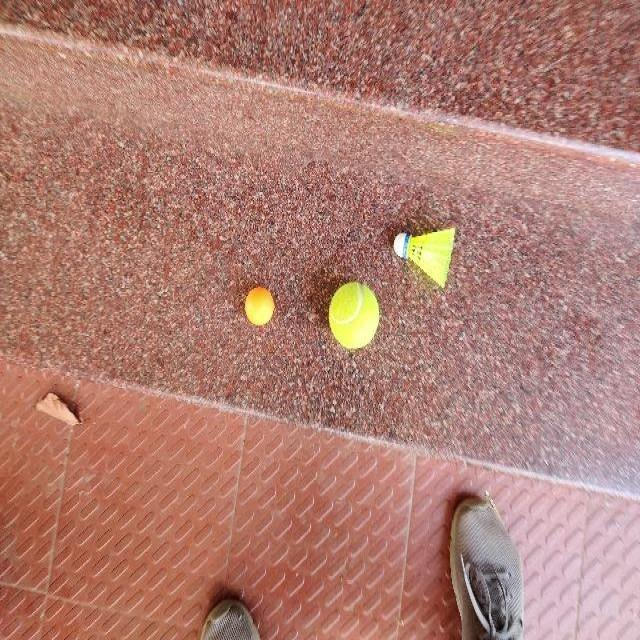ball: (328, 281, 380, 350)
